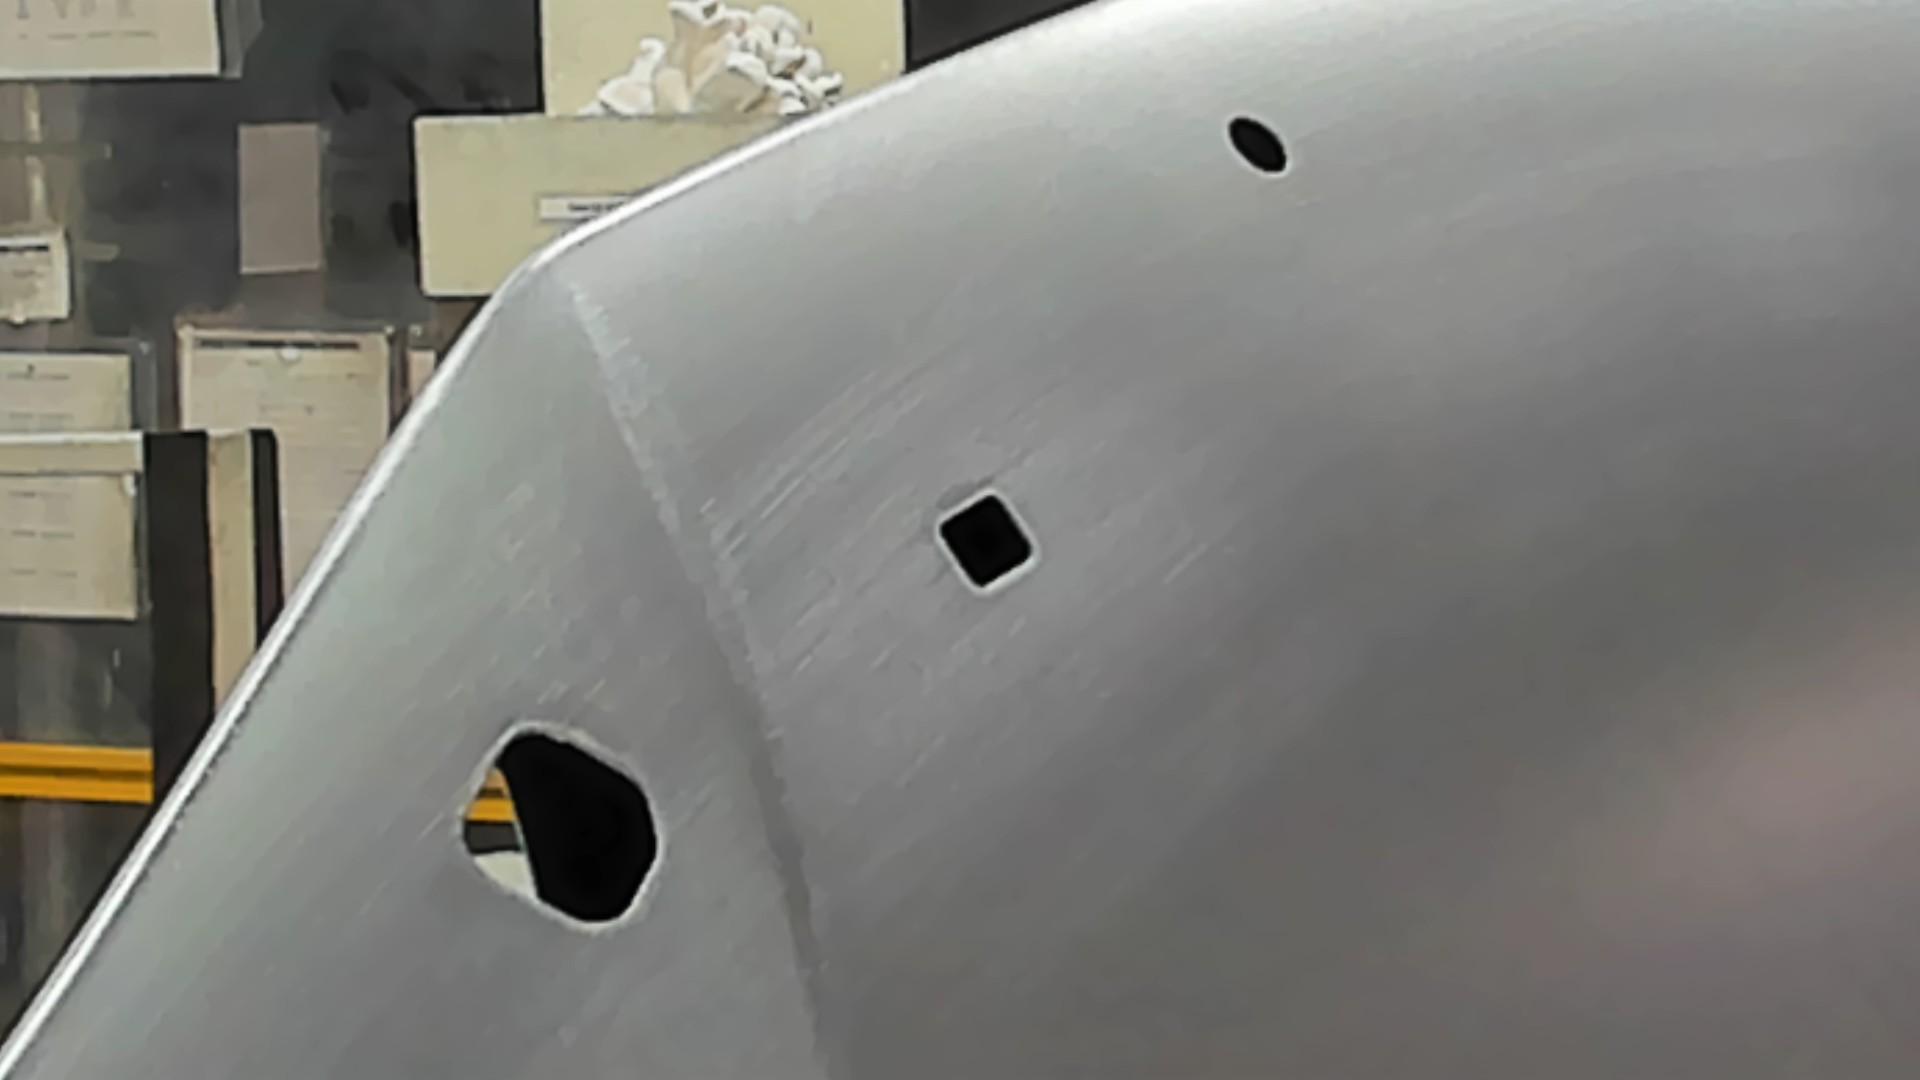capo: (1062, 185, 1920, 1080)
chico: (1220, 109, 1294, 178)
grande: (450, 713, 669, 940)
mediano: (927, 487, 1046, 600)
